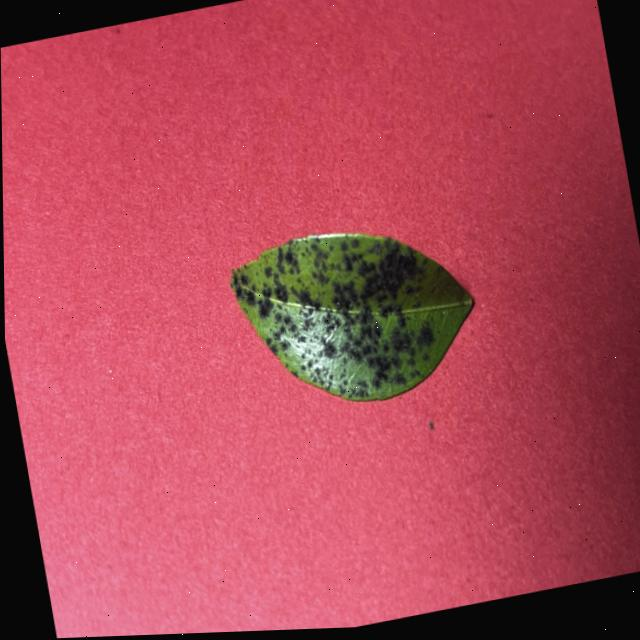sooty_mold: (229, 233, 472, 399)
